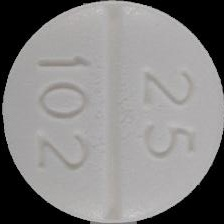49938-102: (0, 0, 224, 224)
